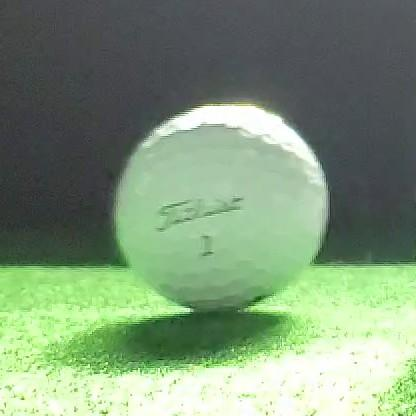golfball: (115, 105, 328, 312)
